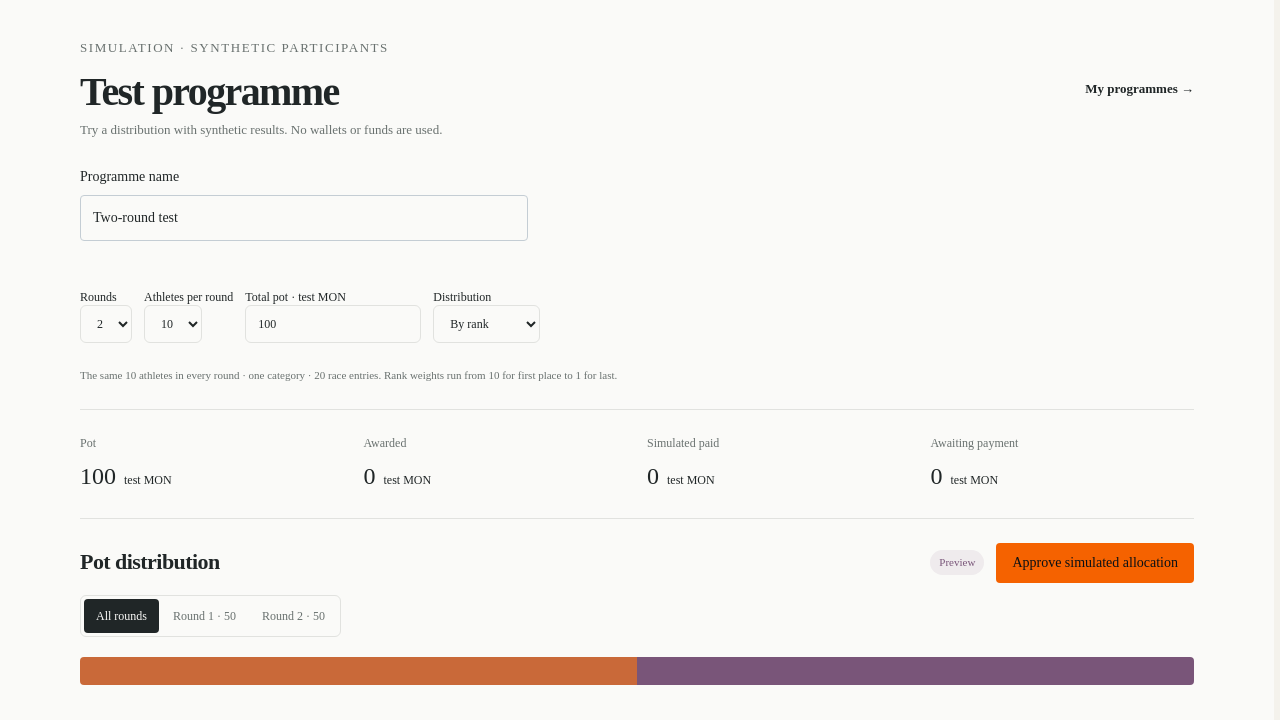
Test case: separates simulated approval, claim and payment, and retires them when the rules change
The image size is (1280, 720).
Expected: the button "Simulate claim" is not shown
Click the button "Approve simulated allocation" at (1095, 563), box [996,543,1194,583]
(page scrolled)
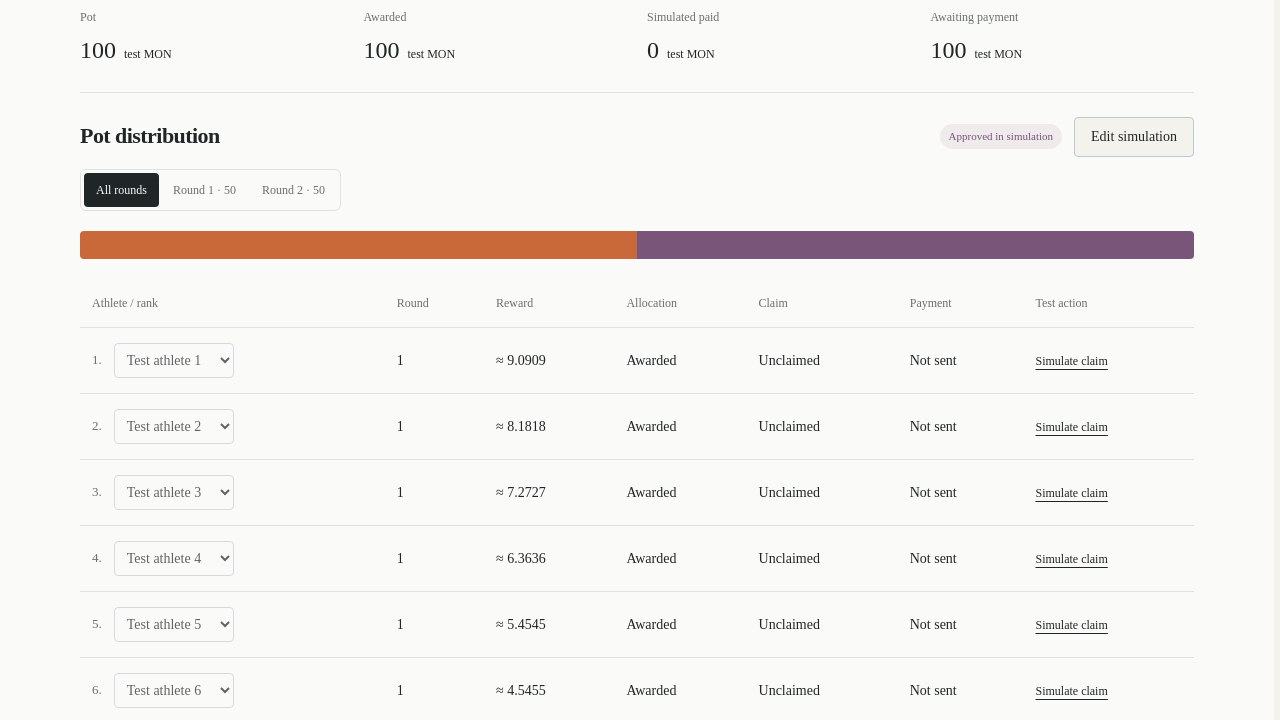
Now the 1st text "Awarded" is shown, box [614,328,746,393]
Click the 1st button "Simulate claim" at (1072, 361), box [1036,353,1108,369]
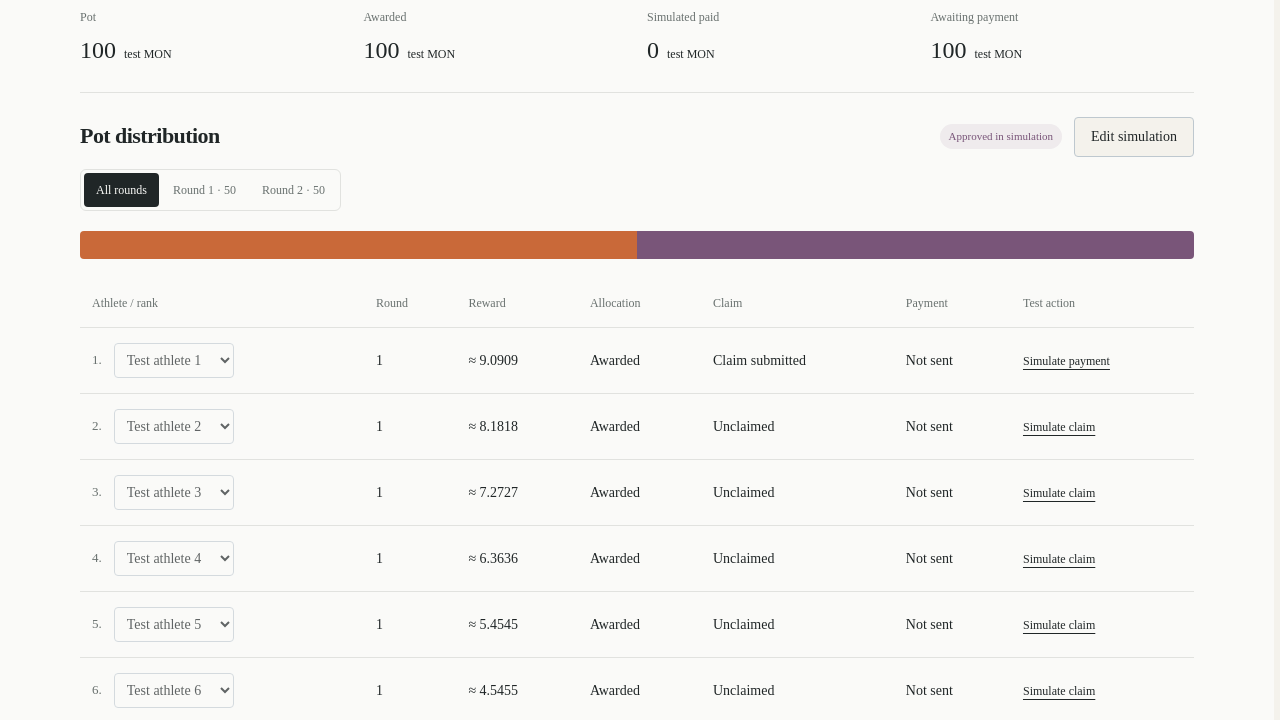
Expected: the text "Not sent" next to "Claim submitted" is shown, [906,353,953,368]
Now the text "Claim submitted" is shown, box [701,328,894,393]
Click the button "Simulate payment" at (1066, 361), box [1023,353,1110,369]
(page scrolled)
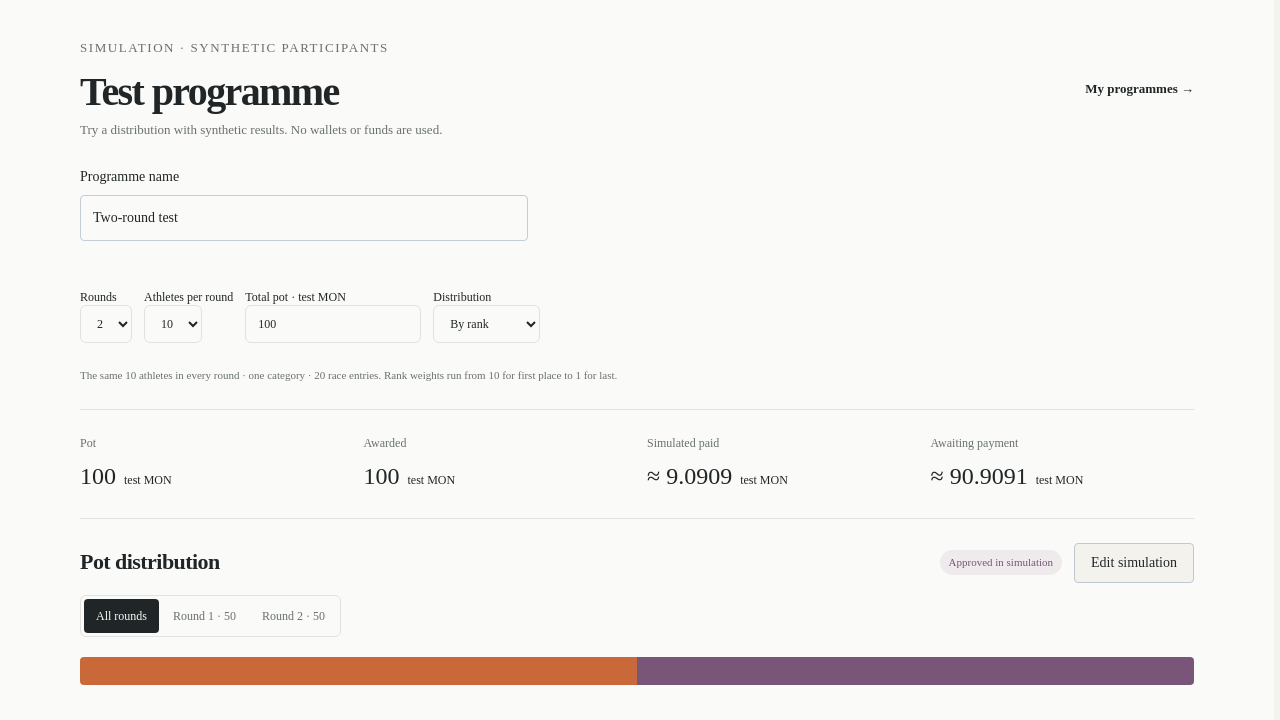
Select "Equal shares" in the dropdown labelled "Distribution" at (487, 324), box [433,305,540,343]
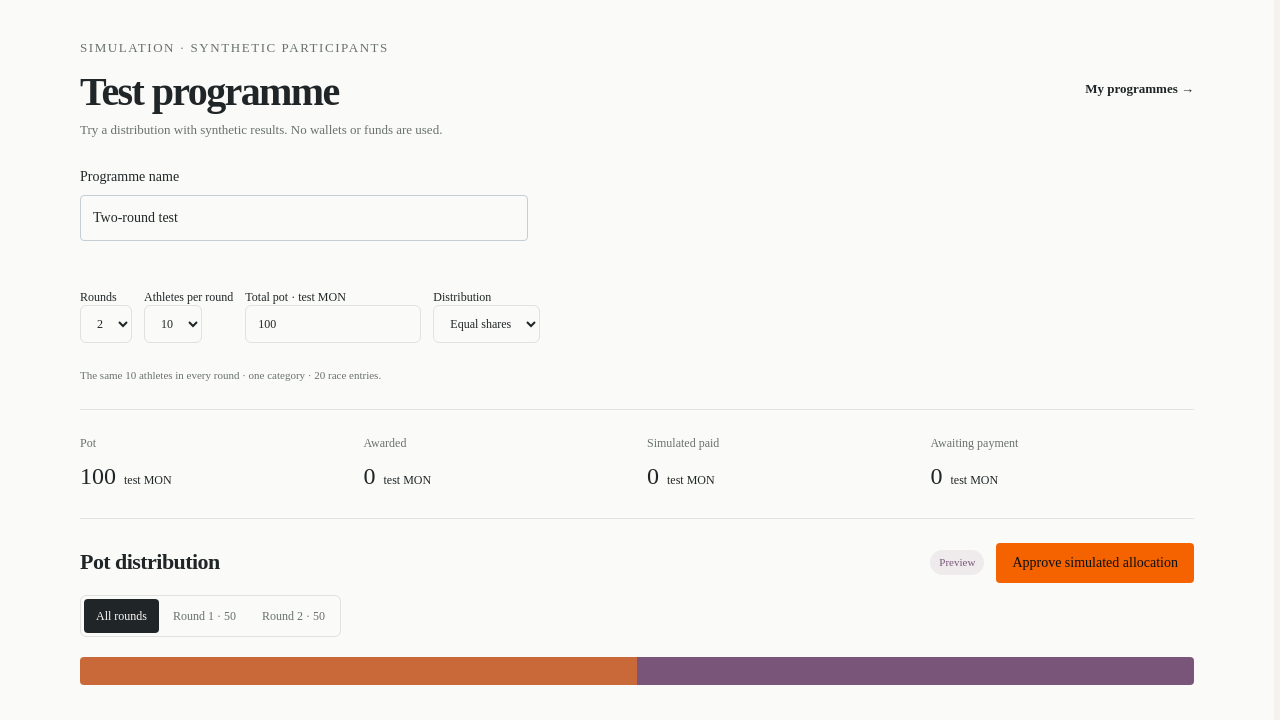
Now the button "Approve simulated allocation" is shown, box [996,543,1194,583]
